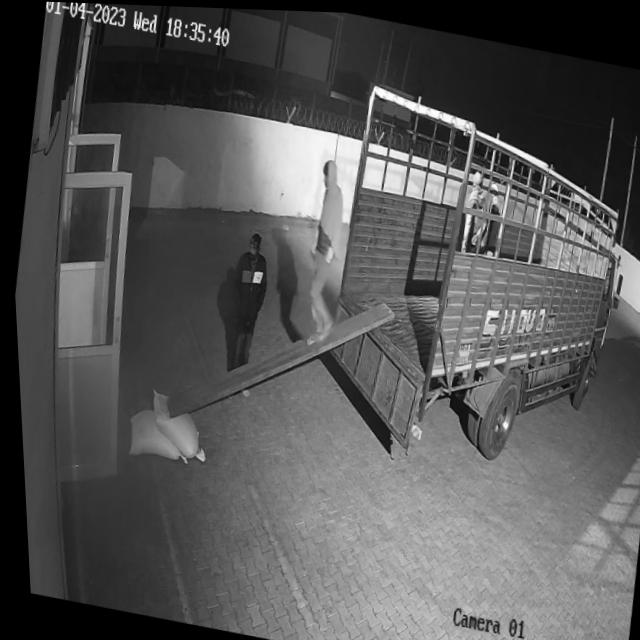sack: (139, 386, 209, 461), (119, 403, 189, 463)
